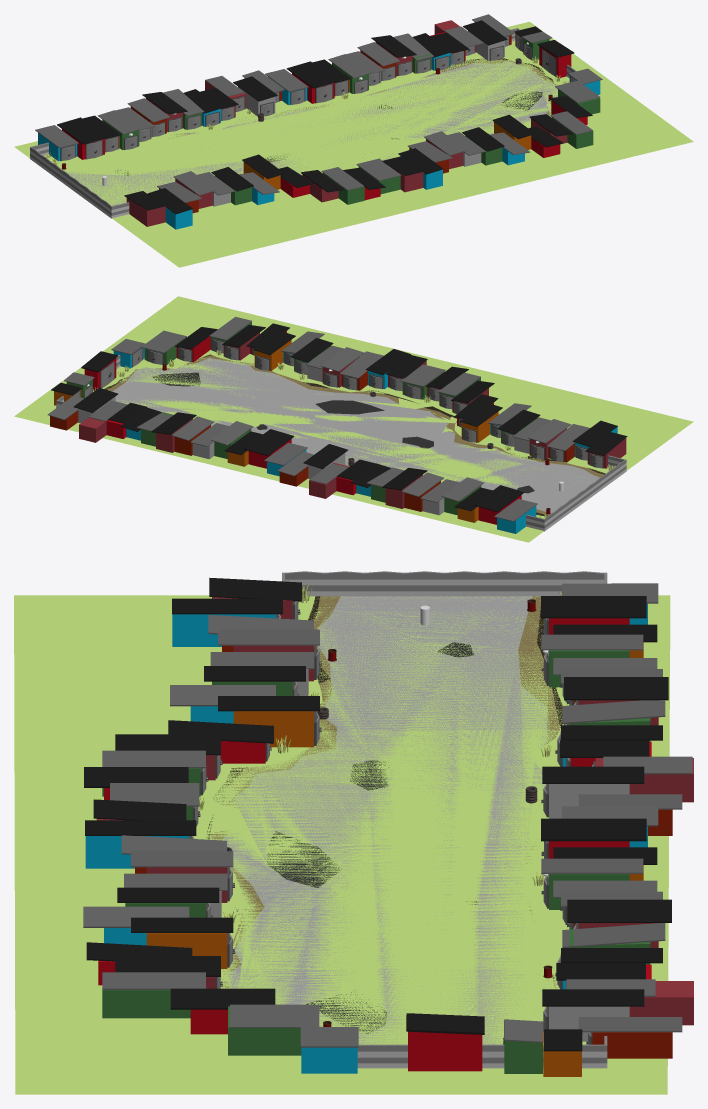
File: Гаражи.fbx
The picture shows the model from 3 angles, top to bottom: view 1: azimuth 30°, elevation 25°; view 2: azimuth 150°, elevation 25°; view 3: azimuth 270°, elevation 25°; orthographic projection. The views are drawn at different scales.
Parts seen in each view (by area): view 1: Plane, Cube.256, Cube.032, Cube.283, Cube.003, Cube.052, Cube.263, Cube.269, Cube.046, Cube.033, Cube.282, Cube.034 (+37 smaller); view 2: Plane, Cube.256, Cube.032, Cube.283, Cube.296, Cube.263, Cube.052, Cube.269, Cube.046, Cube.264, Cube.033, Cube.051 (+39 smaller); view 3: Plane, Cube.256, Cube.338, Cube.283, Cube.286, Cube.029, Cube.032, Cube.297, Cube.269, Cube.292, Cube.287, Cube.021 (+65 smaller).
Boxes of the visible parts, bbox=[...] form: Plane: bbox=[14, 21, 693, 267]; Cube.256: bbox=[30, 28, 576, 218]; Cube.032: bbox=[57, 117, 107, 144]; Cube.283: bbox=[286, 61, 337, 88]; Cube.003: bbox=[126, 198, 165, 226]; Cube.052: bbox=[233, 76, 277, 101]; Cube.263: bbox=[463, 20, 507, 45]; Cube.269: bbox=[555, 80, 600, 103]; Cube.046: bbox=[356, 158, 401, 180]; Cube.033: bbox=[148, 188, 192, 214]; Cube.282: bbox=[398, 148, 443, 174]; Cube.034: bbox=[173, 171, 216, 195]; Plane: bbox=[14, 296, 693, 542]; Cube.256: bbox=[56, 354, 626, 531]; Cube.032: bbox=[474, 485, 524, 512]; Cube.283: bbox=[244, 429, 294, 456]; Cube.296: bbox=[79, 417, 107, 442]; Cube.263: bbox=[73, 387, 117, 412]; Cube.052: bbox=[303, 444, 347, 468]; Cube.269: bbox=[141, 330, 186, 352]; Cube.046: bbox=[400, 364, 445, 386]; Cube.264: bbox=[340, 351, 383, 378]; Cube.033: bbox=[572, 420, 617, 446]; Cube.051: bbox=[546, 424, 589, 450]; Plane: bbox=[14, 595, 670, 1094]; Cube.256: bbox=[282, 571, 607, 1068]; Cube.338: bbox=[408, 1031, 482, 1071]; Cube.283: bbox=[541, 818, 646, 841]; Cube.286: bbox=[567, 899, 671, 922]; Cube.029: bbox=[564, 677, 668, 700]; Cube.032: bbox=[541, 596, 646, 618]; Cube.297: bbox=[102, 990, 190, 1018]; Cube.269: bbox=[230, 1004, 319, 1027]; Cube.292: bbox=[228, 1006, 301, 1055]; Cube.287: bbox=[170, 988, 275, 1009]; Cube.021: bbox=[233, 711, 313, 747].
Size of the model in its own units: 29445 by 1258 by 16947.
